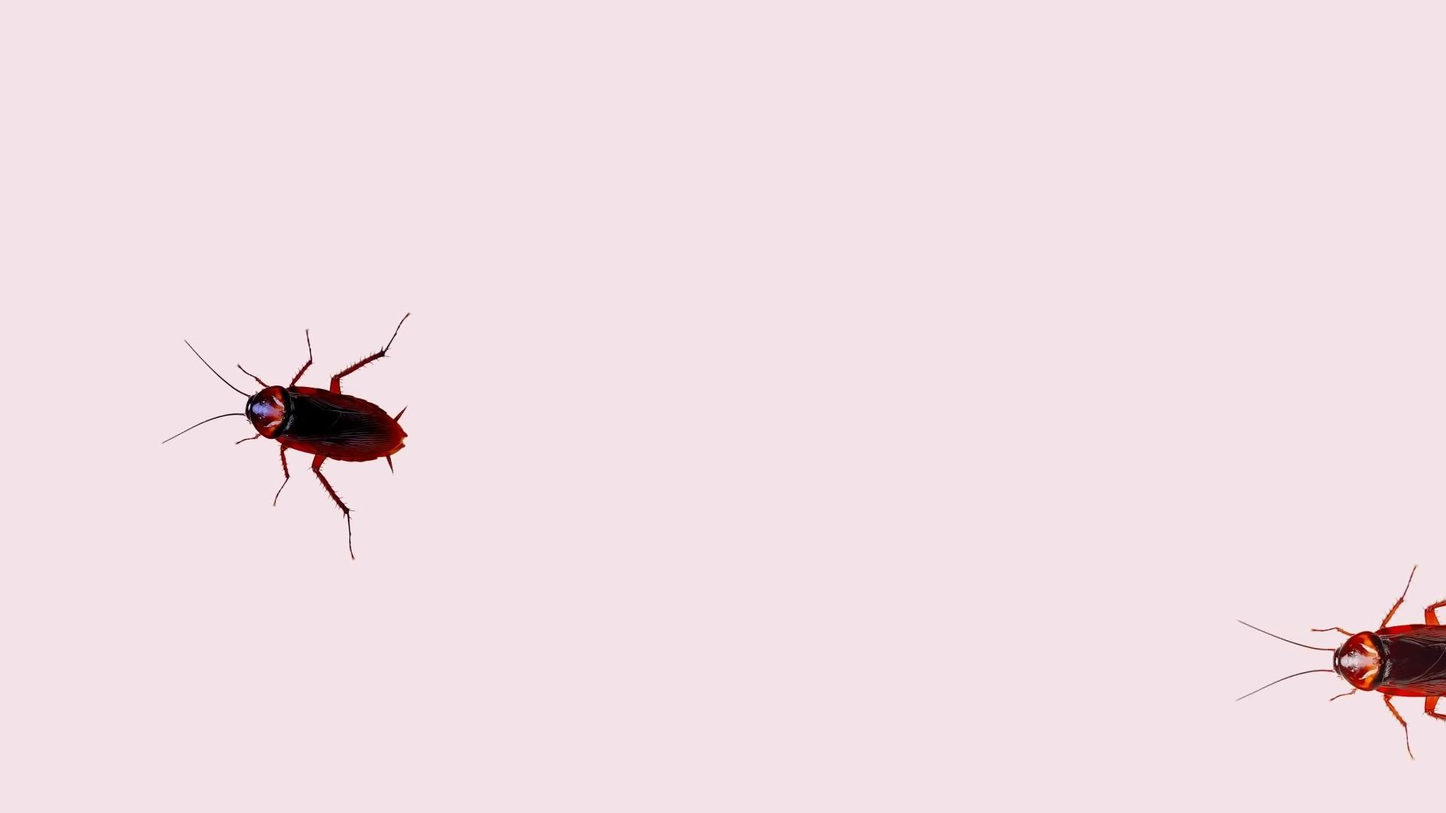cockroach: (159, 328, 430, 523), (1277, 593, 1446, 729)
